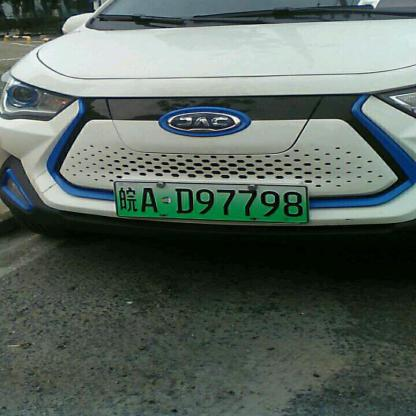lp: (114, 182, 308, 223)
